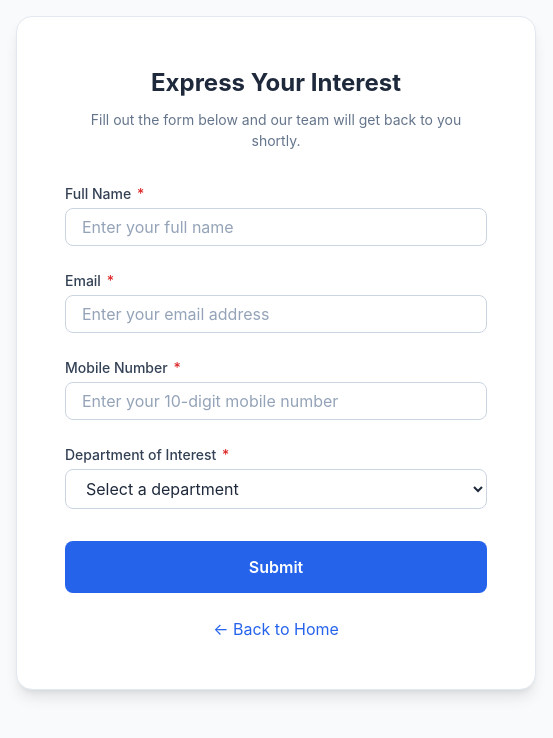
Test case: InterestForm › shows validation errors for empty required fields › shows validation error for name with special characters
Type "John@Doe" into the field labelled "Full Name *" at [276, 227], box [65,208,487,246]
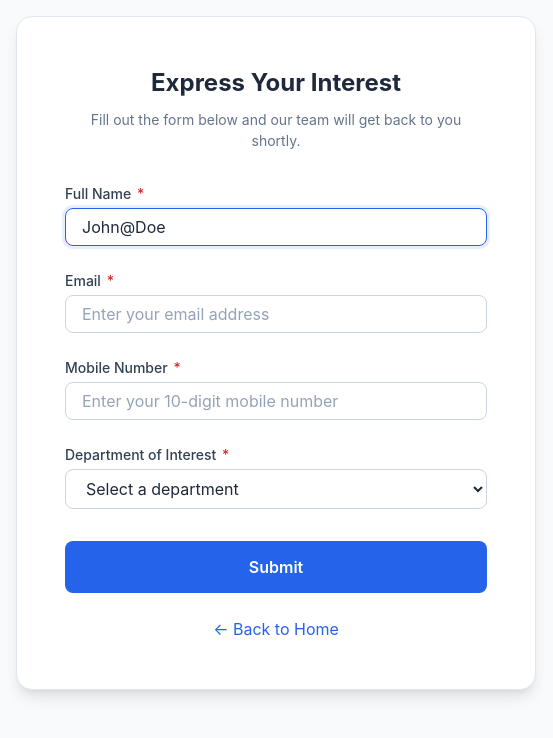
Type "john@example.com" into the field labelled "Email *" at [276, 314], box [65,295,487,333]
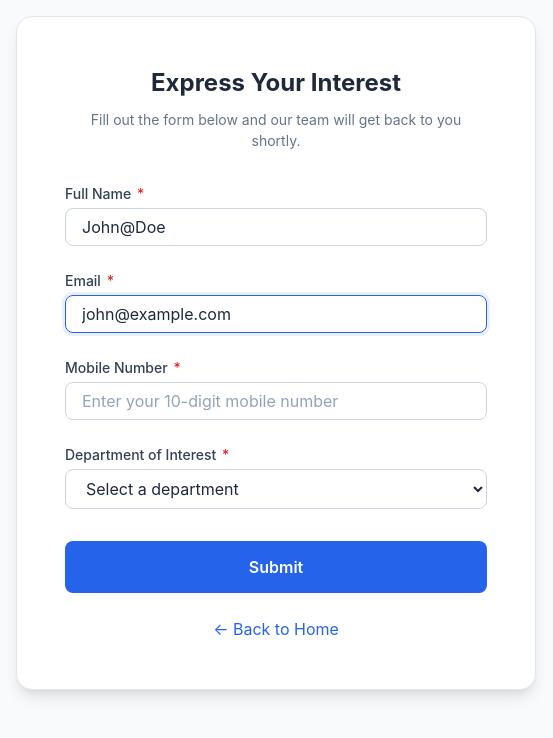
Type "1234567890" into the field labelled "Mobile Number *" at [276, 401], box [65,382,487,420]
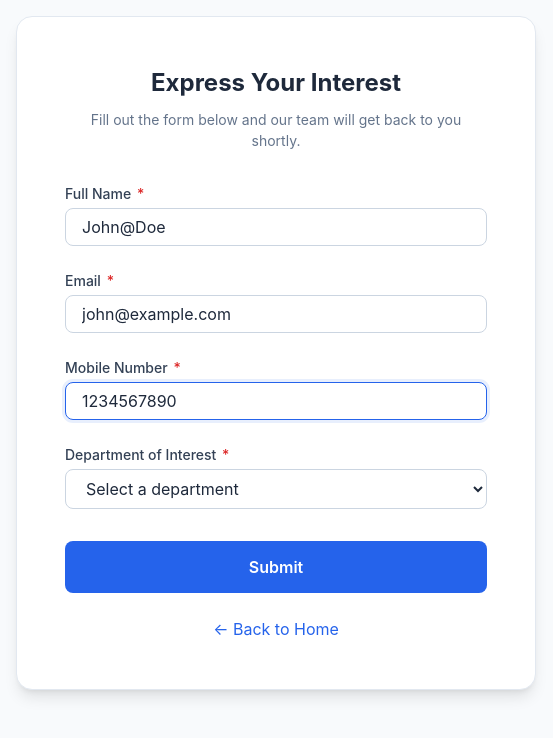
Select "Engineering" in the dropdown labelled "Department of Interest *" at [276, 489], box [65,469,487,509]
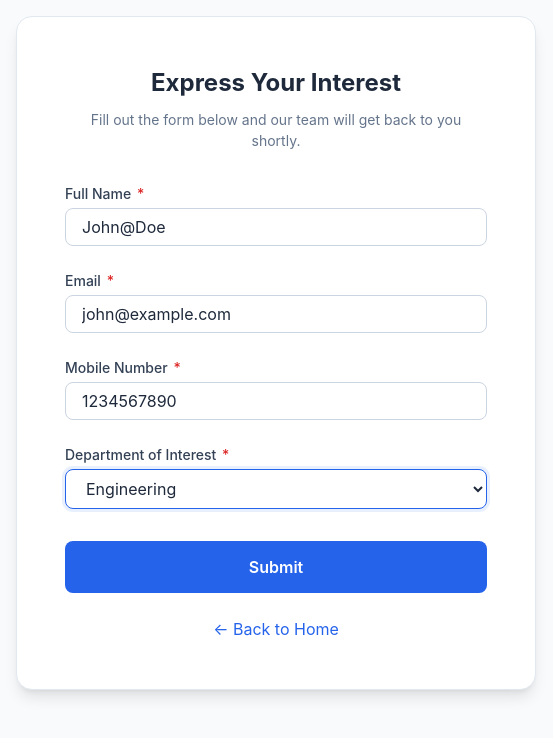
Click the button "Submit" at [276, 567], box [65,541,487,593]
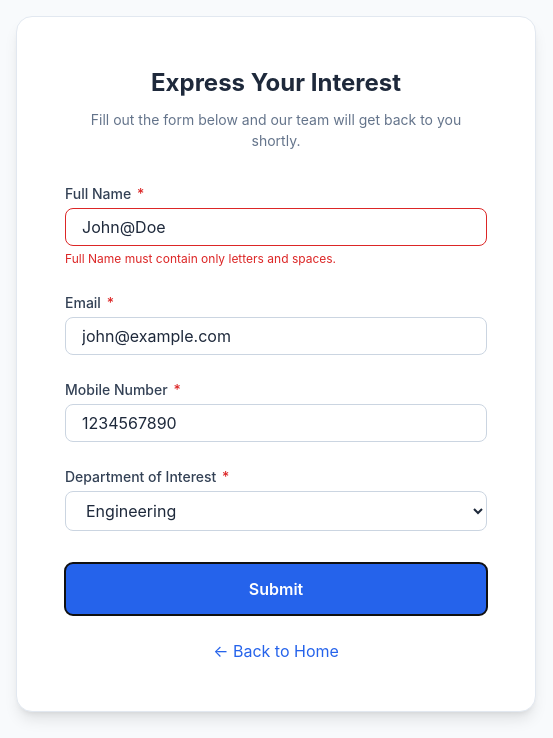
Now the text "Full Name must contain only letters and spaces." is shown, box [65,251,336,266]
